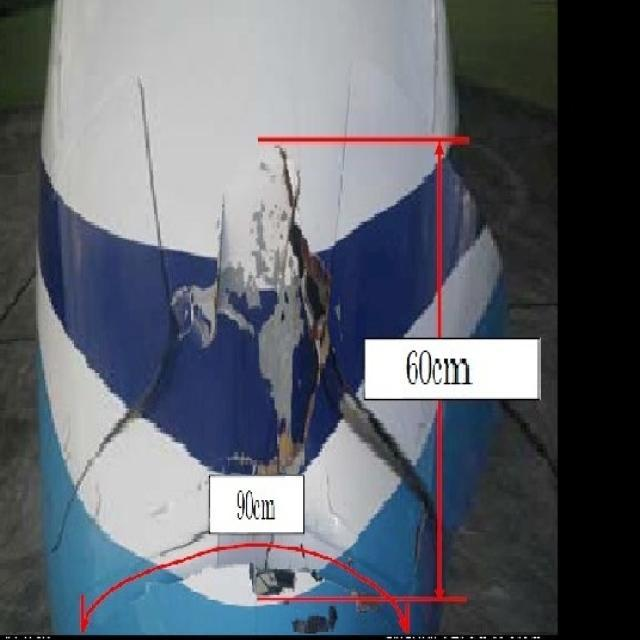crack: (192, 188, 232, 341)
